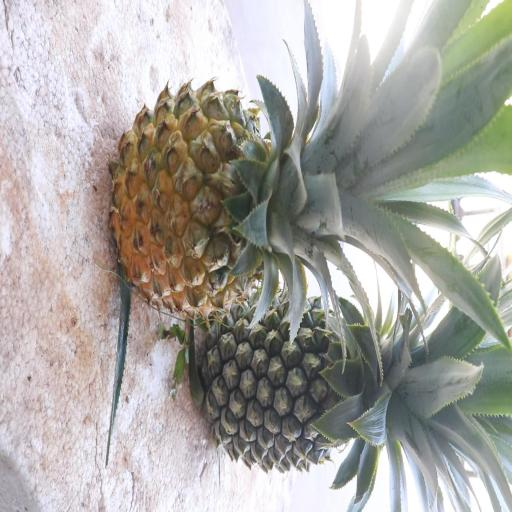Pineapple - v8 v1: (107, 76, 361, 319)
